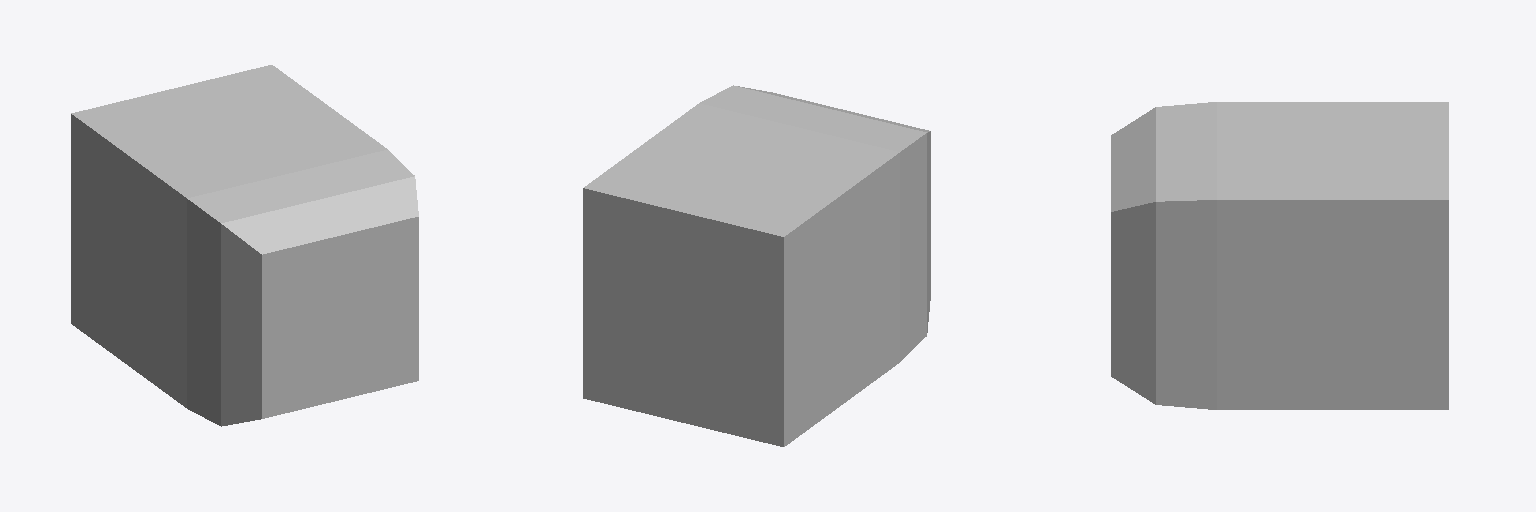
The model's file is macbethchart.obj.
3 renders of one model, left to right at view 1: azimuth 30°, elevation 25°; view 2: azimuth 150°, elevation 25°; view 3: azimuth 270°, elevation 25°, orthographic.
Parts seen in each view (by area): view 1: cube_collision, cube_low; view 2: cube_low, cube_collision; view 3: cube_low, cube_collision.
Boxes of the visible parts, x1=… form: cube_collision: x1=187, y1=150, x2=418, y2=426; cube_low: x1=71, y1=65, x2=387, y2=407; cube_low: x1=583, y1=103, x2=899, y2=446; cube_collision: x1=700, y1=85, x2=930, y2=361; cube_low: x1=1217, y1=102, x2=1448, y2=409; cube_collision: x1=1111, y1=102, x2=1216, y2=409.
Bounding box in the file's own units: 40 × 40 × 58.23.